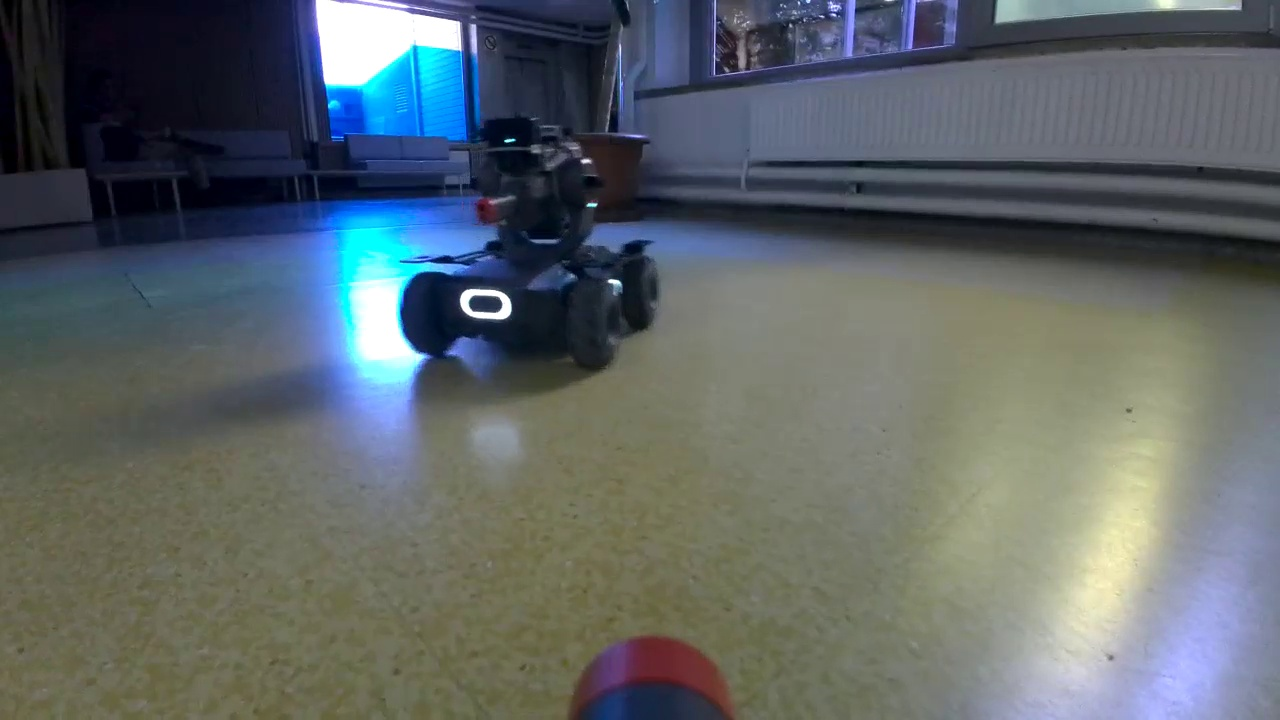robot: (399, 116, 668, 365)
